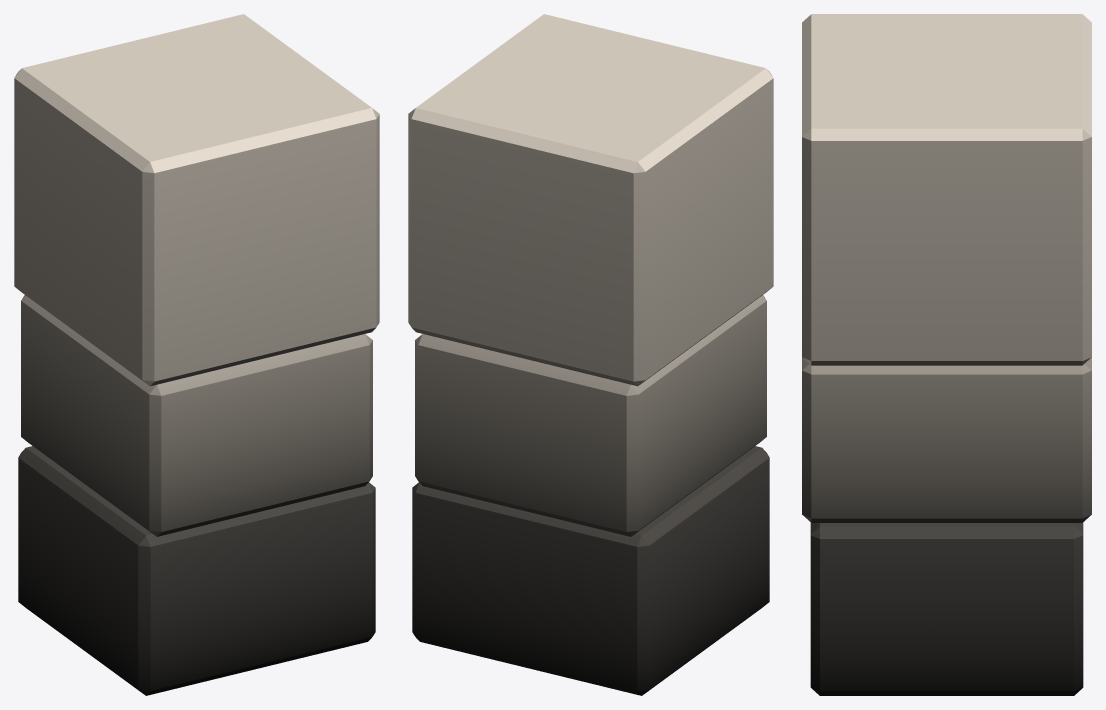
Rendered from SM_VKI_Post_Dungeon_Corner_Cut.fbx.
The picture shows the model from 3 angles, left to right: view 1: azimuth 30°, elevation 25°; view 2: azimuth 150°, elevation 25°; view 3: azimuth 270°, elevation 25°; orthographic projection. The views are drawn at different scales.
Parts seen in each view (by area): view 1: SM_VKI_Post_Dungeon_Corner_Cut.001; view 2: SM_VKI_Post_Dungeon_Corner_Cut.001; view 3: SM_VKI_Post_Dungeon_Corner_Cut.001.
Part boxes in pixels (bbox=[...]): SM_VKI_Post_Dungeon_Corner_Cut.001: bbox=[14, 14, 379, 695]; SM_VKI_Post_Dungeon_Corner_Cut.001: bbox=[408, 14, 773, 695]; SM_VKI_Post_Dungeon_Corner_Cut.001: bbox=[802, 14, 1091, 695].
Size of the model in its own units: 0.62 by 1.34 by 0.62.
